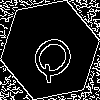Q: (25, 25, 86, 87)
